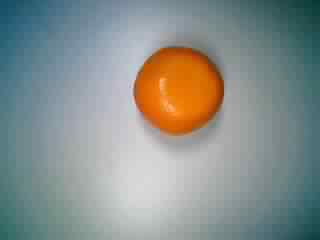orange: (130, 43, 225, 145)
